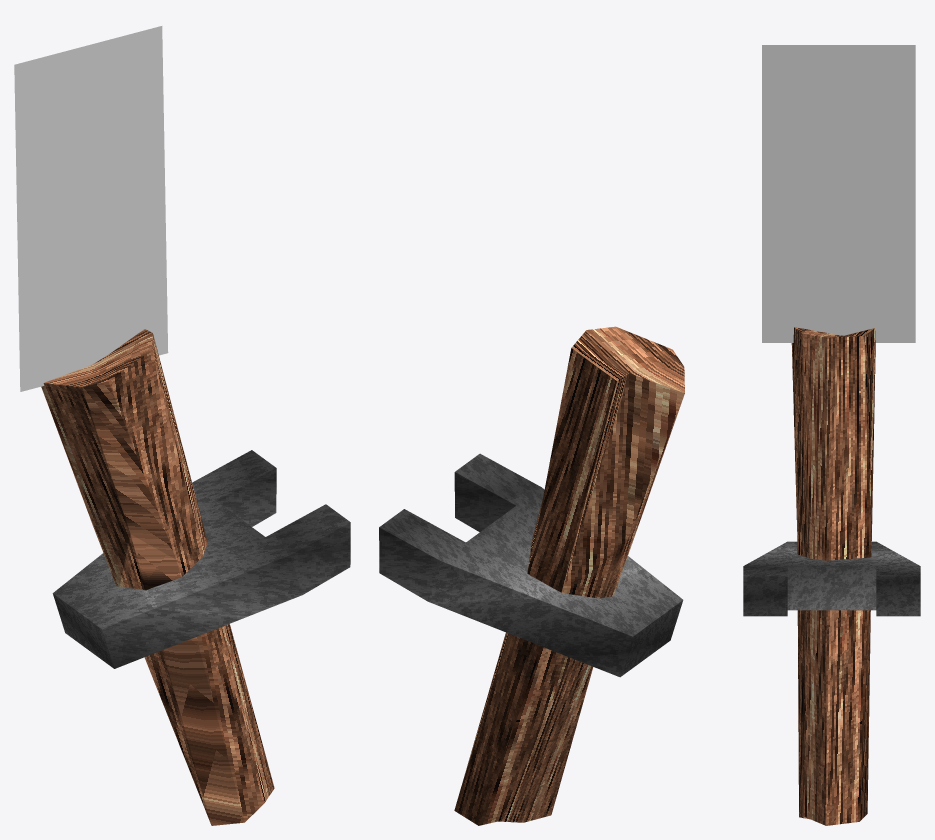
Rendered from torch.glb.
3 renders of one model, left to right at view 1: azimuth 30°, elevation 25°; view 2: azimuth 150°, elevation 25°; view 3: azimuth 270°, elevation 25°, orthographic. The views are drawn at different scales.
Parts seen in each view (by area): view 1: Plane, Cube.001, Cube; view 2: Cube.001, Cube; view 3: Plane.001, Cube.001, Cube.
Part boxes in pixels (x1,y1,x2,y2): Plane: (14, 26, 168, 391); Cube.001: (41, 329, 274, 825); Cube: (52, 450, 350, 668); Cube.001: (454, 326, 684, 825); Cube: (379, 453, 683, 677); Plane.001: (762, 45, 915, 342); Cube.001: (791, 327, 875, 825); Cube: (743, 541, 920, 616).
Bounding box in the file's own units: 0.4716 × 1.27 × 0.2848.
Materials: 2 (2 with a texture image).
